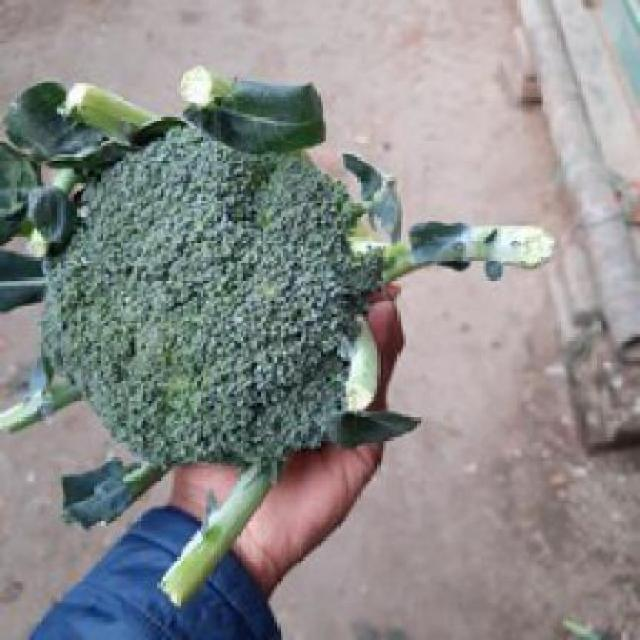broccoli: (6, 77, 406, 470)
